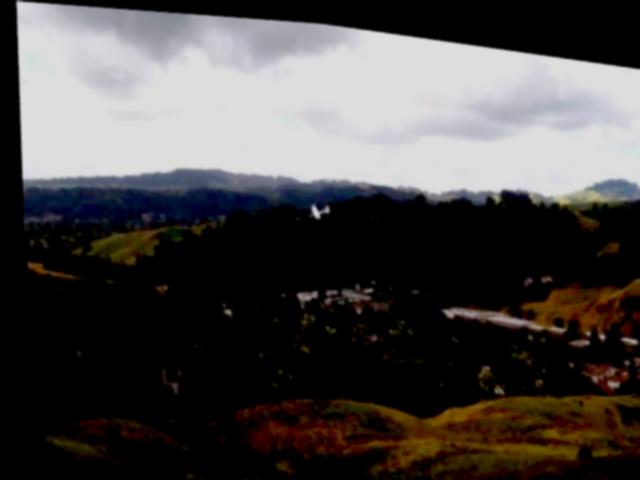iha: (300, 197, 327, 218)
